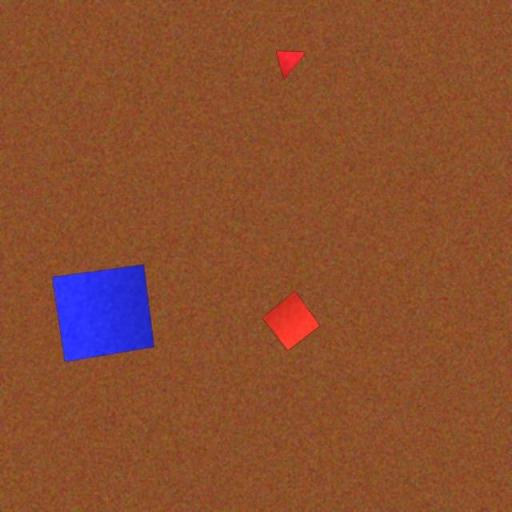BLUE_SQUARE: (51, 264, 155, 363)
RED_SQUARE: (261, 290, 321, 352)
